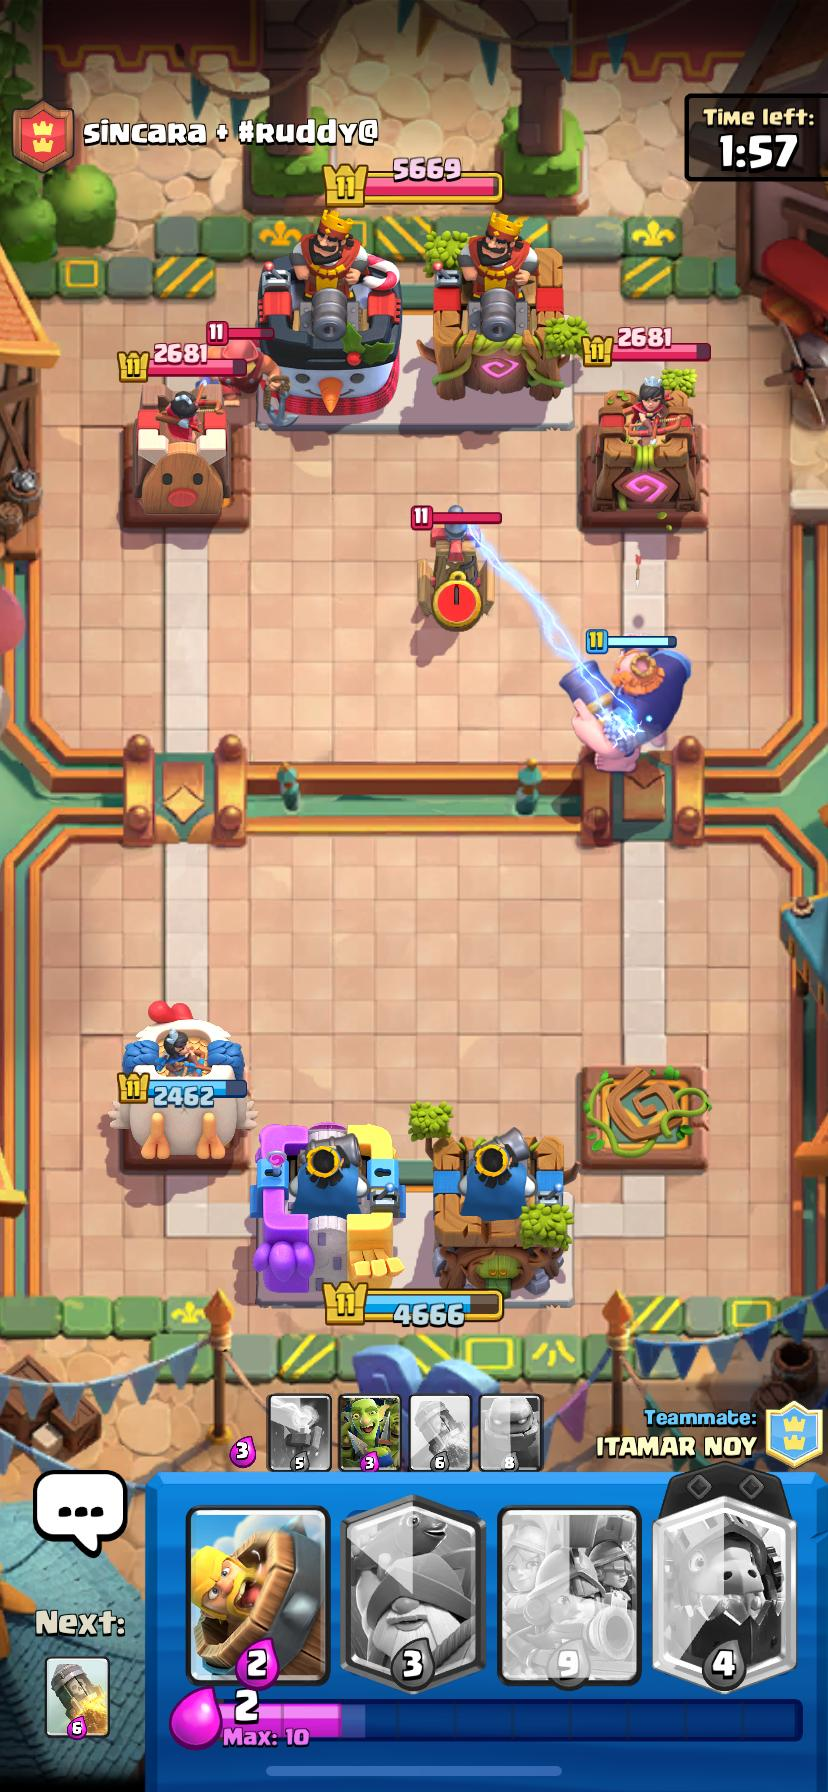EFisherman: (208, 339, 281, 393)
EKingTower: (257, 210, 401, 425), (419, 213, 562, 400)
ETesla: (417, 507, 493, 631)
EnemyPrincessTower: (579, 383, 706, 529), (133, 382, 229, 523)
ORoyalG: (560, 645, 690, 773)
OwnKingTower: (250, 1123, 405, 1299), (433, 1128, 572, 1294)
OwnPrincessTower: (110, 1002, 255, 1161)
TowerDown: (579, 1065, 709, 1169)
